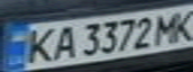2: (133, 14, 160, 50)
3: (78, 20, 103, 57), (100, 18, 121, 55)
7: (115, 16, 139, 52)
A: (48, 22, 81, 61)
K: (18, 25, 60, 65), (169, 6, 193, 43)
M: (151, 9, 187, 44)
